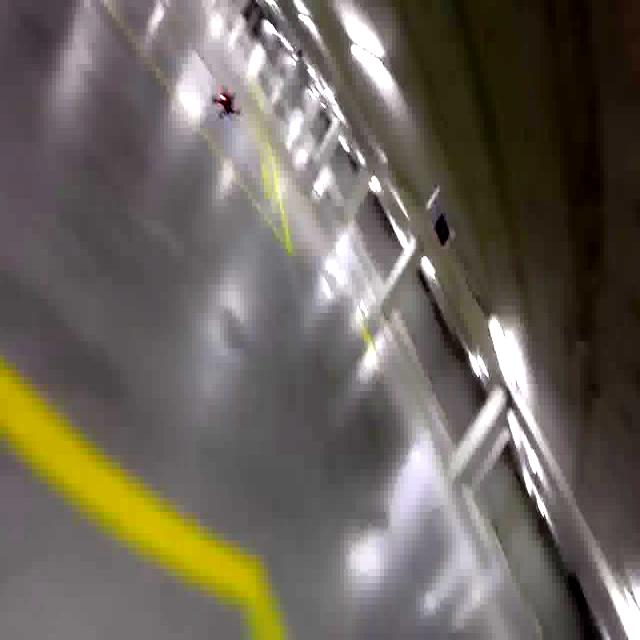drone: (210, 84, 242, 130)
